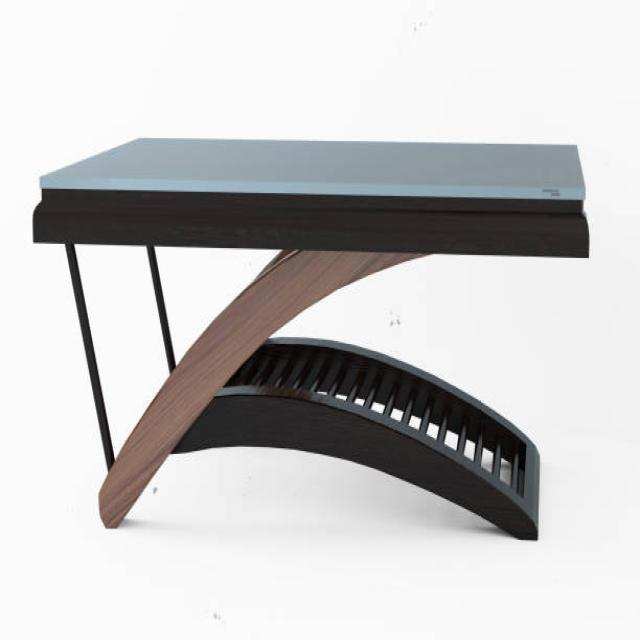table: (31, 135, 590, 540)
